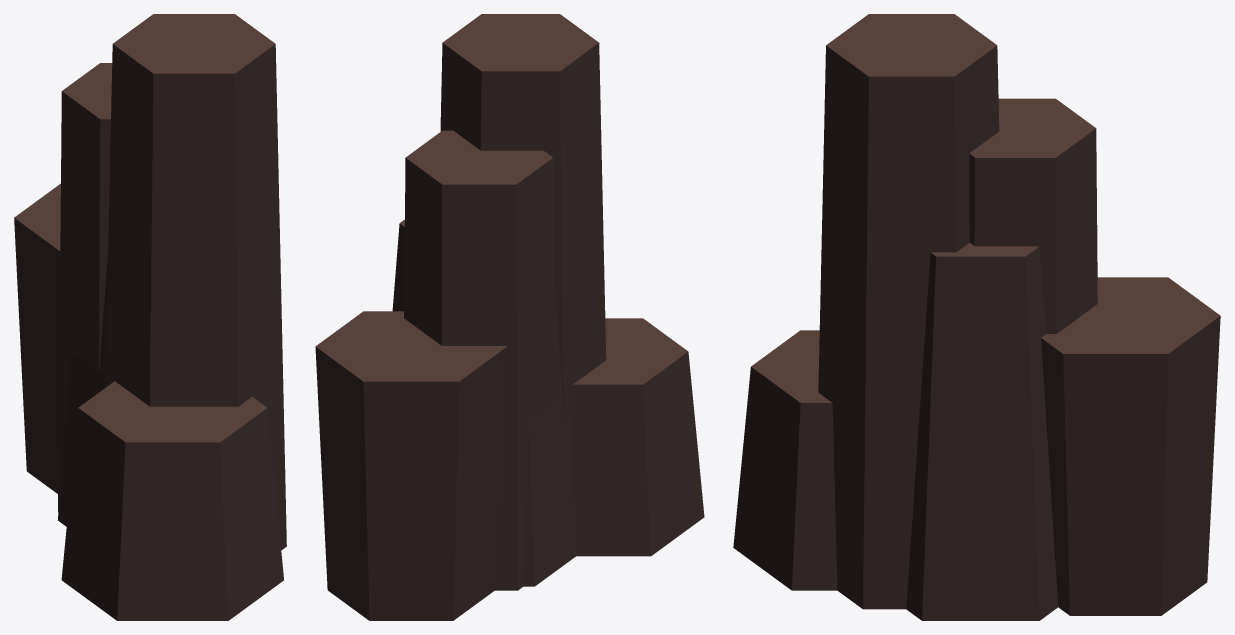
File: Crater_Basalt0.fbx
3 views of the same model, side by side, from view 1: azimuth 30°, elevation 25°; view 2: azimuth 150°, elevation 25°; view 3: azimuth 270°, elevation 25° (orthographic). The views are drawn at different scales.
Parts seen in each view (by area): view 1: Crater_Basalt0; view 2: Crater_Basalt0; view 3: Crater_Basalt0.
Boxes of the visible parts, x1,y1,x2,y2 form: Crater_Basalt0: (14, 14, 286, 620); Crater_Basalt0: (315, 14, 704, 620); Crater_Basalt0: (733, 14, 1220, 620).
Size of the model in its own units: 1.04 by 2.22 by 1.85.
